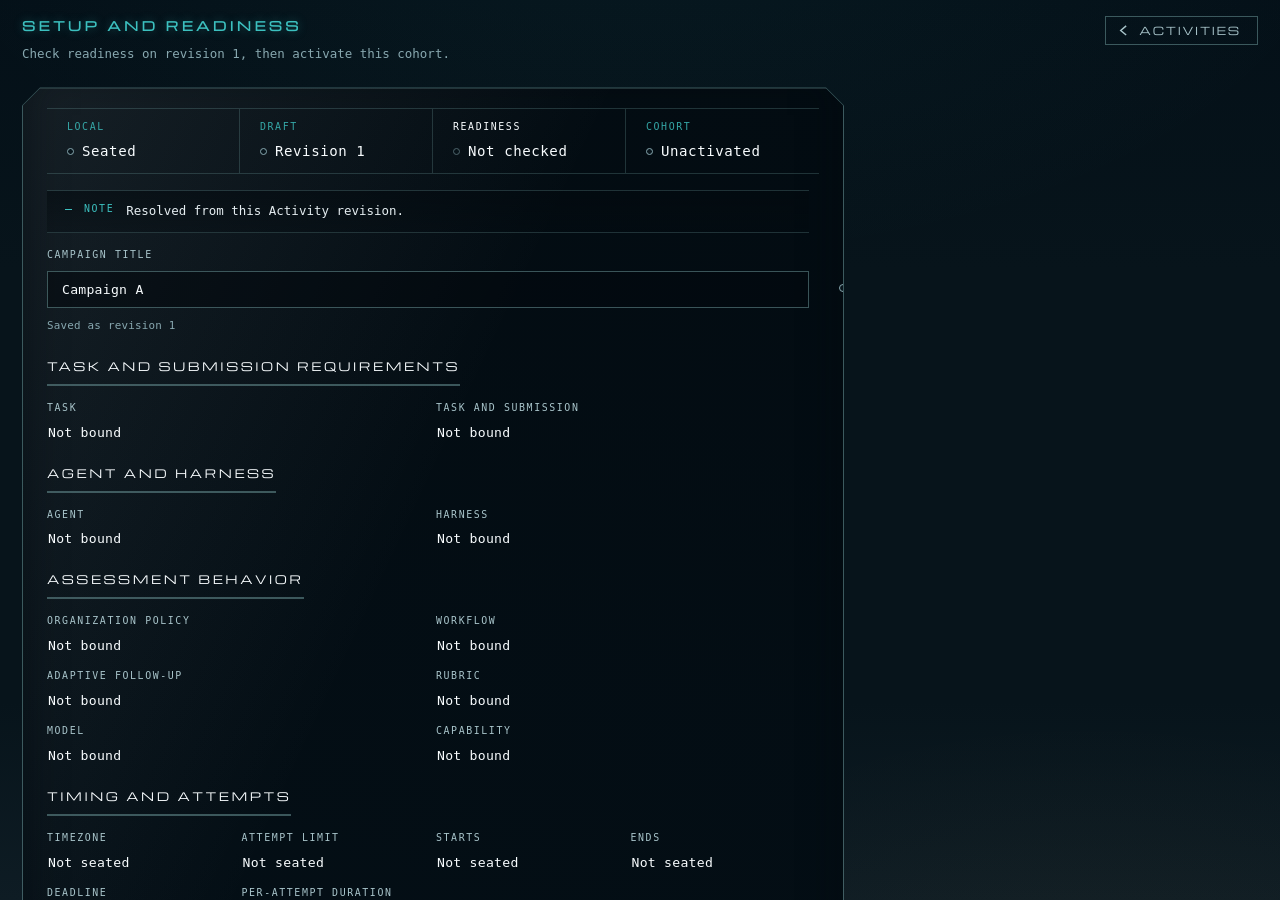
AssessmentSetupPage › saves before leaving when Save draft and leave succeeds
The width and height of the screenshot is (1280, 900).
Replace the text in the field labelled "Campaign title" with "Campaign B" at (428, 290), box [47,271,809,308]
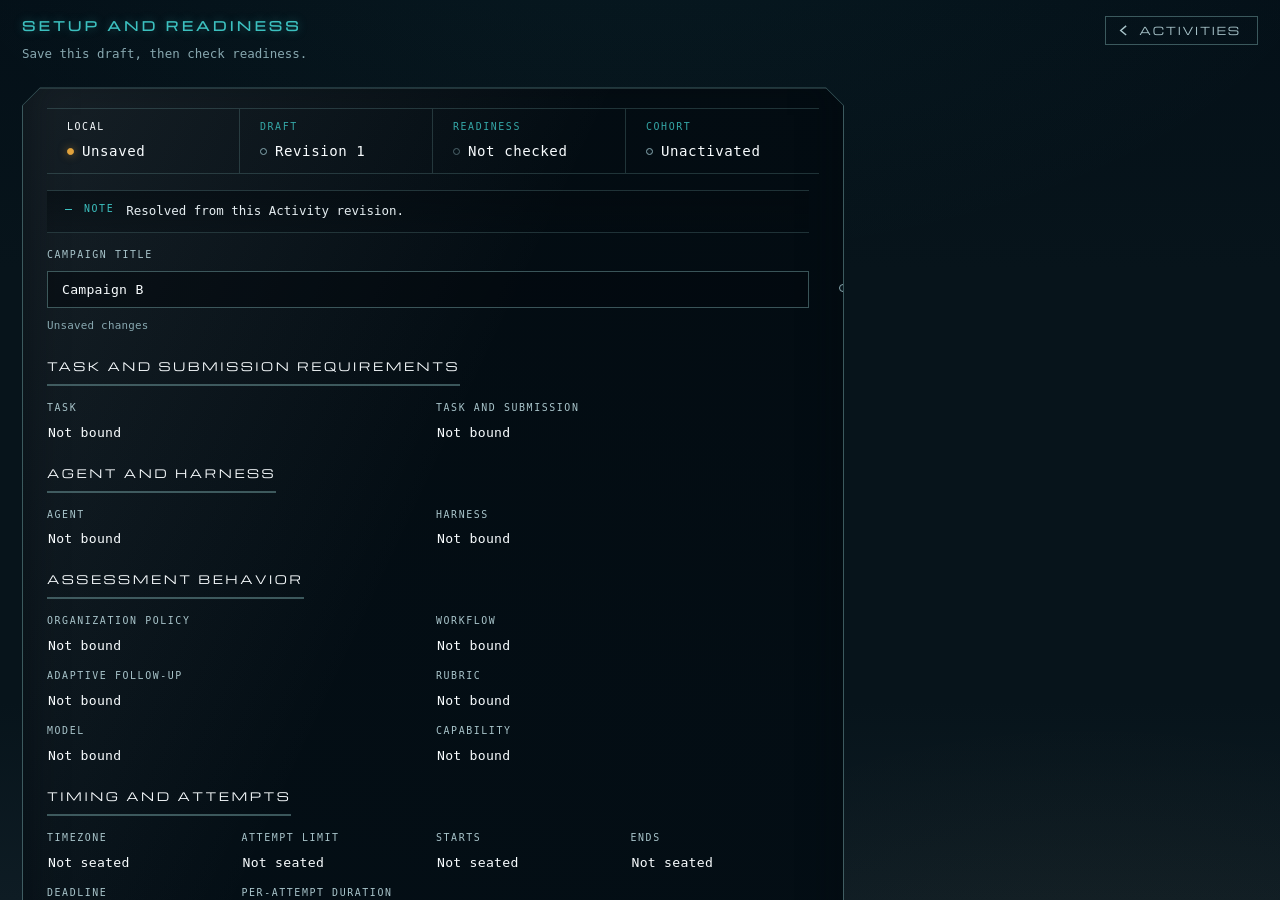
Click the link "Activities".
click(1182, 30)  # box [1106,16,1258,45]
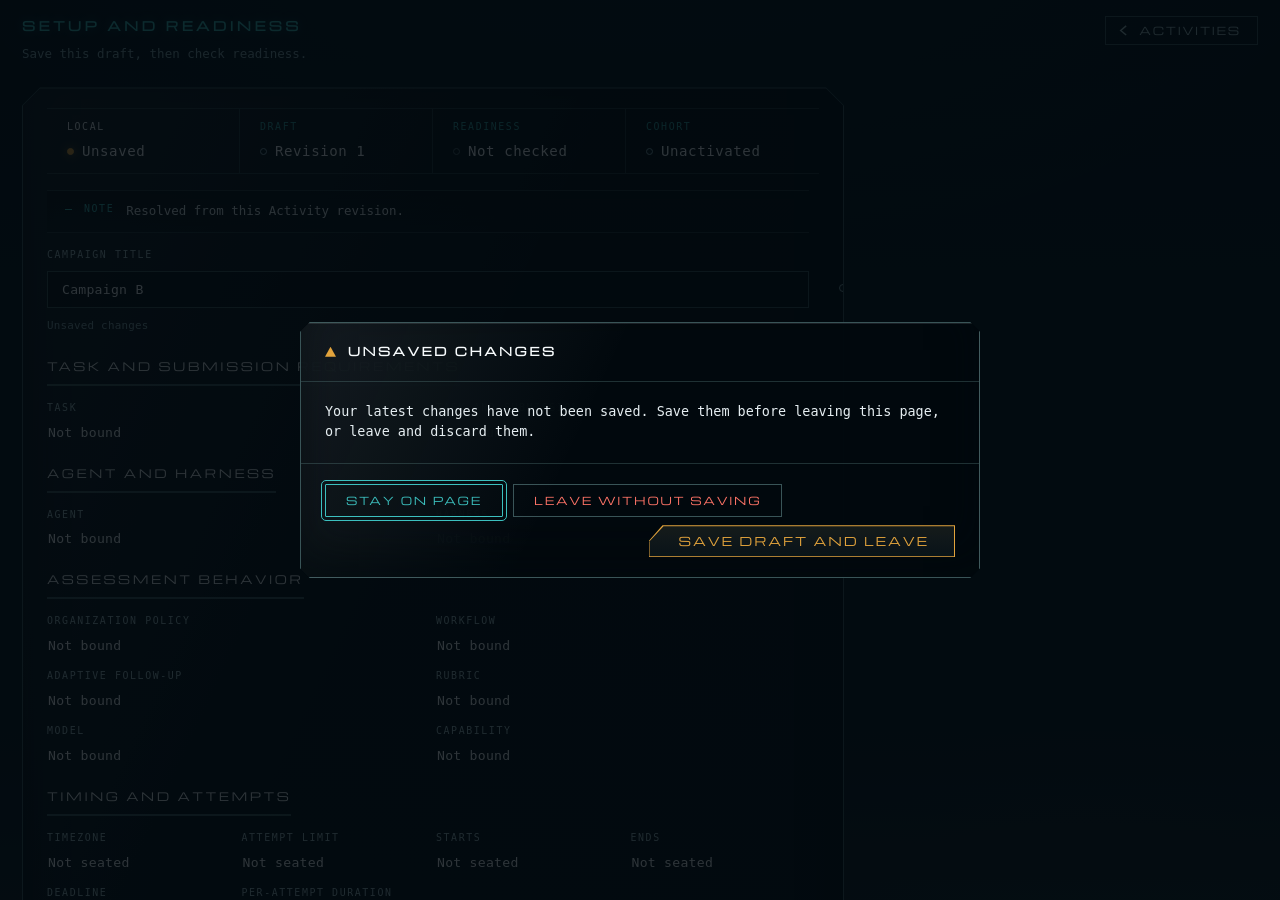
Click the button "Save draft and leave".
click(802, 541)  # box [648,525,955,557]
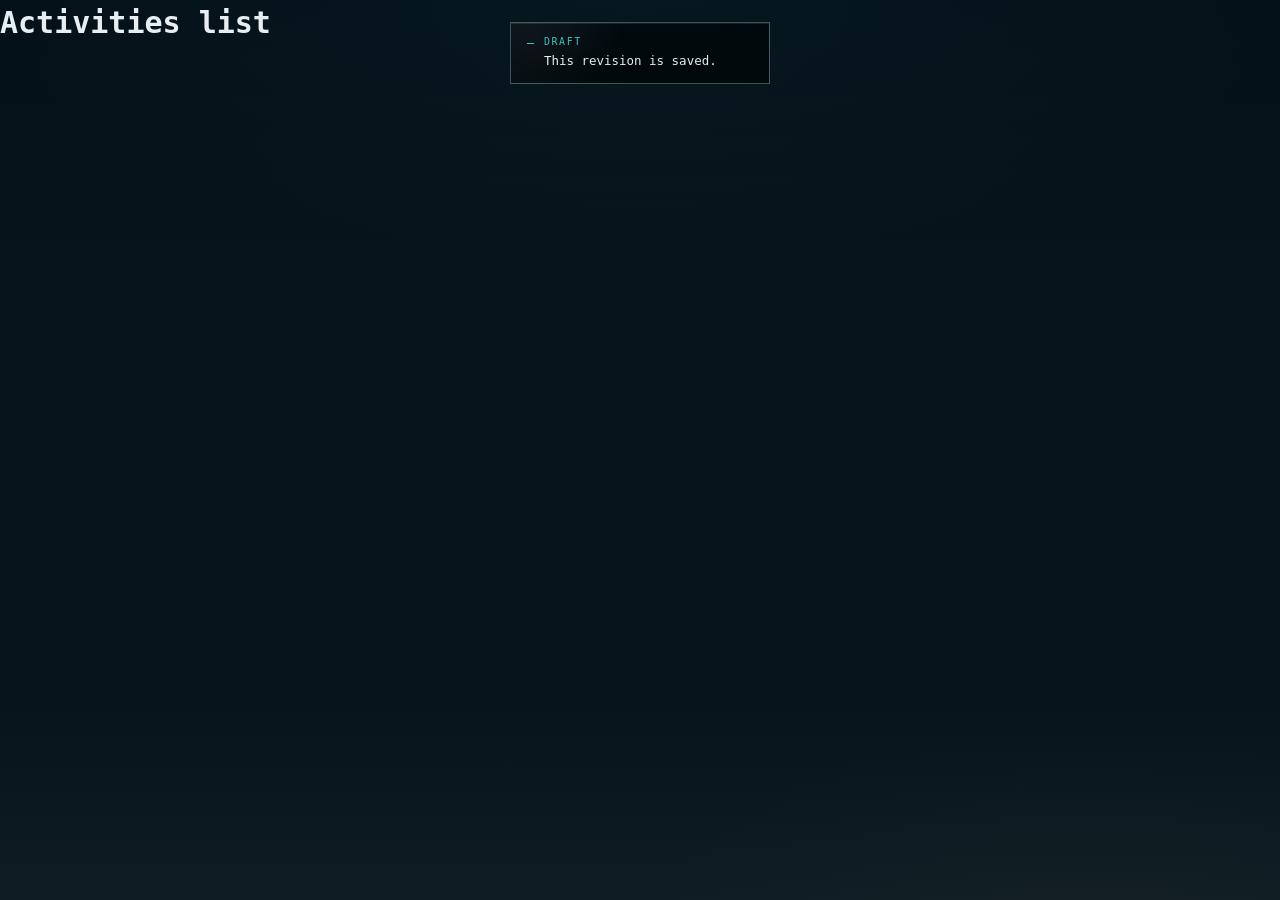
expect the heading "Activities list" is shown: met, box [0,5,271,40]
